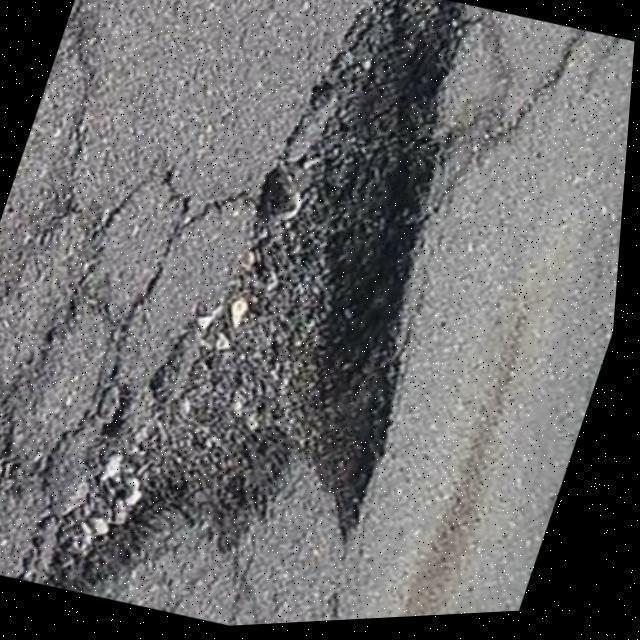Pothole: (49, 6, 469, 598)
